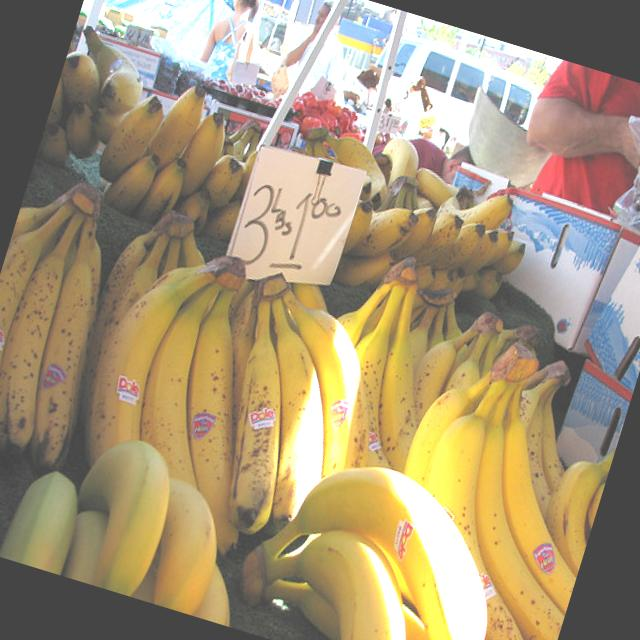Vehicle: (355, 26, 540, 166), (377, 32, 548, 162), (252, 12, 290, 54)
